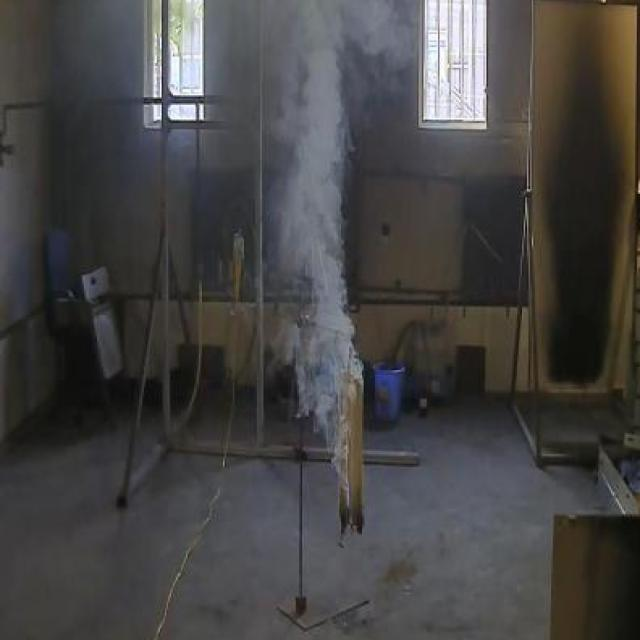fire: (264, 0, 349, 364), (262, 0, 421, 69)
